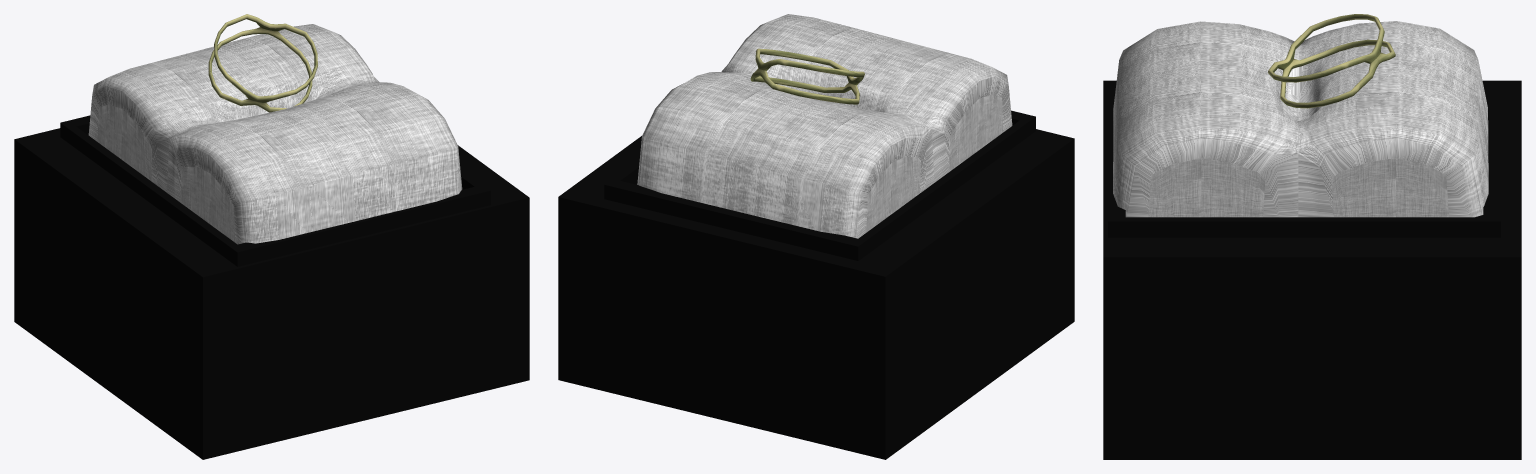
The model's file is Tonya ring.fbx.
3 views of the same model, side by side, from view 1: azimuth 30°, elevation 25°; view 2: azimuth 150°, elevation 25°; view 3: azimuth 270°, elevation 25° (orthographic). The views are drawn at different scales.
Parts seen in each view (by area): view 1: ringbox2, bed, ringbox, Tonyaring; view 2: ringbox2, bed, ringbox, Tonyaring; view 3: ringbox2, bed, ringbox, Tonyaring.
Boxes of the visible parts, x1,y1,x2,y2 form: ringbox2: [14, 128, 529, 459]; bed: [88, 24, 462, 244]; ringbox: [60, 115, 490, 266]; Tonyaring: [208, 14, 317, 112]; ringbox2: [558, 129, 1074, 459]; bed: [637, 14, 1012, 238]; ringbox: [604, 110, 1035, 260]; Tonyaring: [750, 48, 864, 104]; ringbox2: [1103, 80, 1521, 459]; bed: [1113, 21, 1488, 217]; ringbox: [1108, 84, 1500, 237]; Tonyaring: [1268, 14, 1395, 108].
Bounding box in the file's own units: 4.43 × 4.05 × 4.43.
